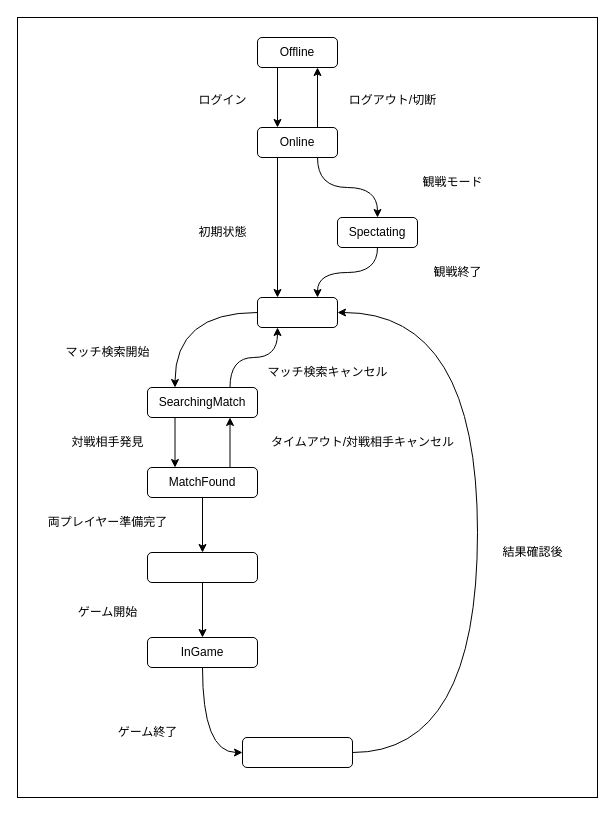
Some shapes in this 615 by 815 pixel diagram are drawn without their labels. Here are the shapes that lost their labels. From the top down, the centre of each, then its label:
At pixel 297 312: "Idle".
At pixel 202 567: "GamePreparing".
At pixel 297 752: "GameOver".
